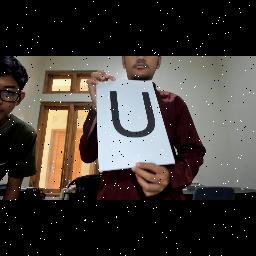u: (104, 87, 164, 139)
